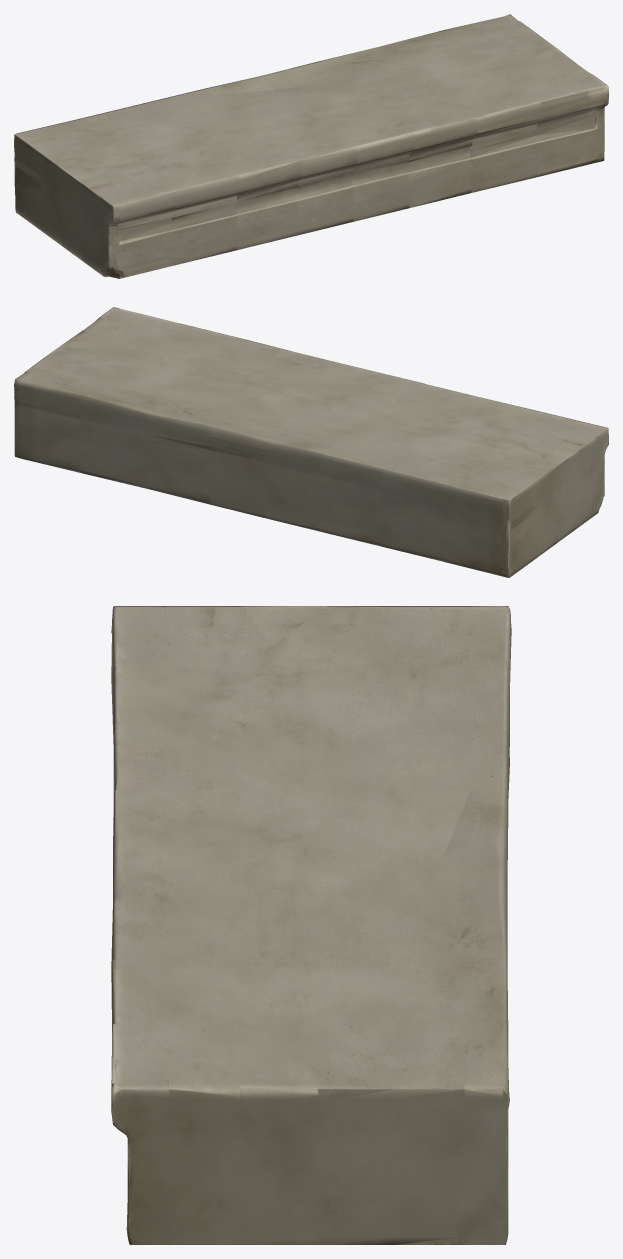
The model's file is step.glb.
3 views of the same model, one above another, from view 1: azimuth 30°, elevation 25°; view 2: azimuth 150°, elevation 25°; view 3: azimuth 270°, elevation 25° (orthographic). The views are drawn at different scales.
Parts seen in each view (by area): view 1: step; view 2: step; view 3: step.
Boxes of the visible parts, left/top/right/bottom form: step: left=14, top=14, right=608, bottom=278; step: left=14, top=307, right=608, bottom=577; step: left=111, top=606, right=511, bottom=1244.
Bounding box in the file's own units: 1 × 0.15 × 0.35.
1 material, 1 textured.
